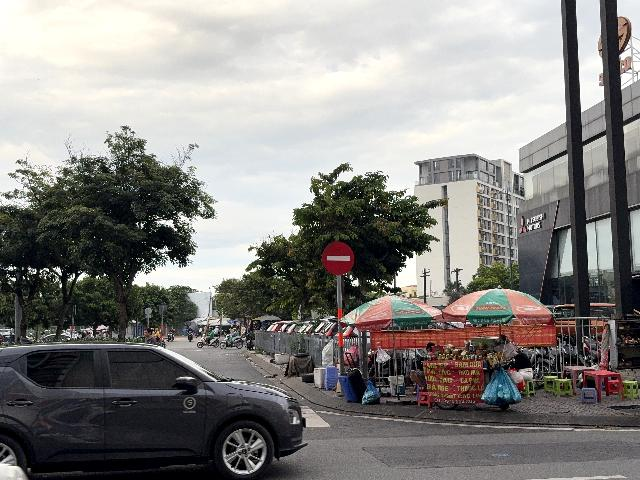cam-di-nguoc-chieu: (322, 241, 355, 276)
